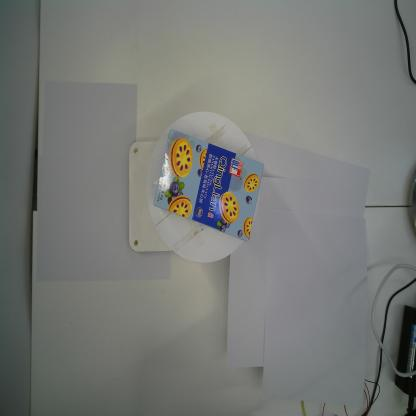Dessert: (153, 128, 265, 243)
